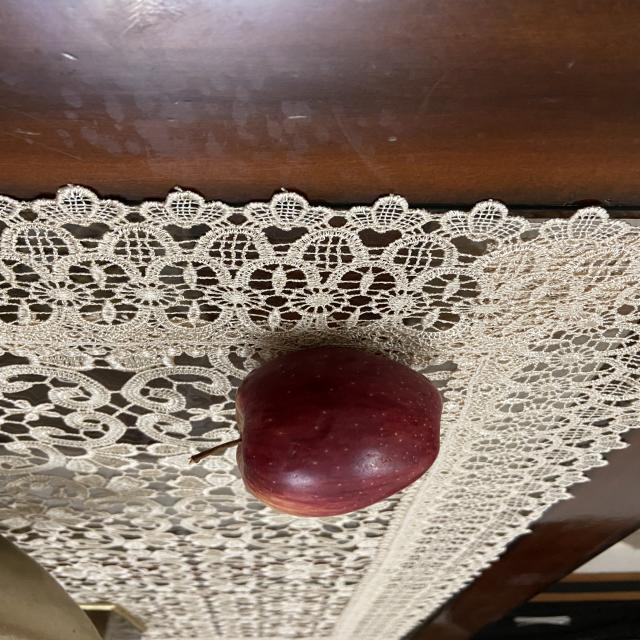apple: (183, 343, 449, 523)
